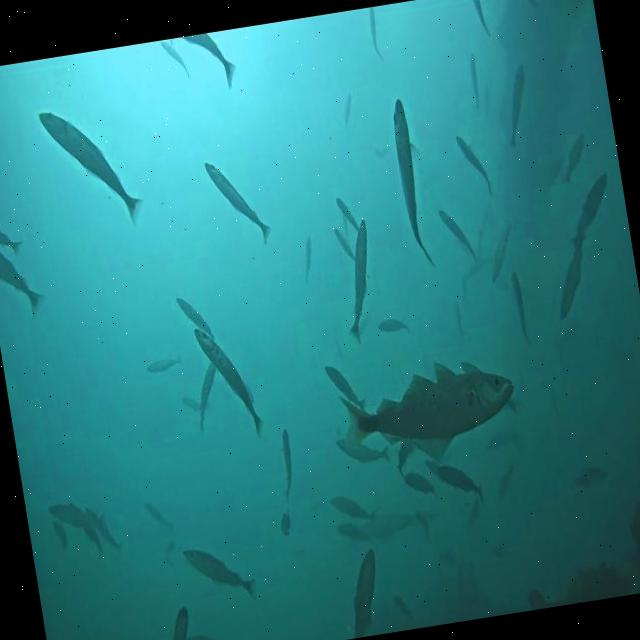fish: (334, 350, 522, 476), (38, 98, 146, 240), (388, 95, 438, 270), (331, 218, 385, 346), (204, 153, 273, 253), (559, 170, 619, 258), (181, 538, 257, 606), (340, 547, 388, 638), (0, 231, 46, 324), (182, 30, 240, 94), (496, 62, 538, 150), (548, 249, 594, 324), (186, 352, 228, 433), (430, 460, 484, 510), (325, 359, 368, 419), (456, 134, 494, 200), (48, 496, 107, 538), (336, 431, 392, 474), (440, 207, 478, 270), (82, 502, 124, 559), (484, 218, 521, 282), (272, 426, 301, 504), (359, 508, 416, 544), (328, 490, 380, 528), (556, 134, 592, 188), (178, 292, 216, 341), (510, 272, 532, 348), (402, 466, 438, 504), (160, 38, 190, 80), (160, 605, 196, 640), (572, 462, 612, 492), (144, 497, 176, 533), (338, 194, 363, 237), (299, 232, 320, 281), (146, 352, 184, 379), (334, 224, 358, 266), (366, 8, 384, 60), (0, 215, 21, 259), (466, 56, 482, 107), (376, 313, 410, 337), (159, 534, 181, 570), (180, 390, 208, 416), (472, 0, 490, 39), (278, 506, 296, 541), (340, 93, 356, 130)
